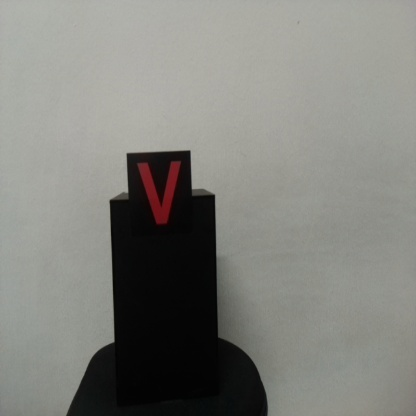id_11: (128, 153, 192, 236)
